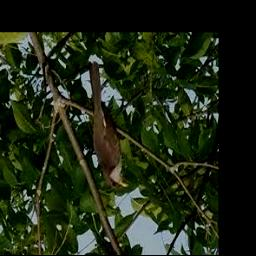Cuckoo: (89, 63, 129, 189)
